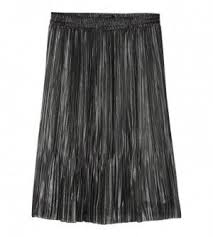C_skirt: (22, 2, 186, 229)
